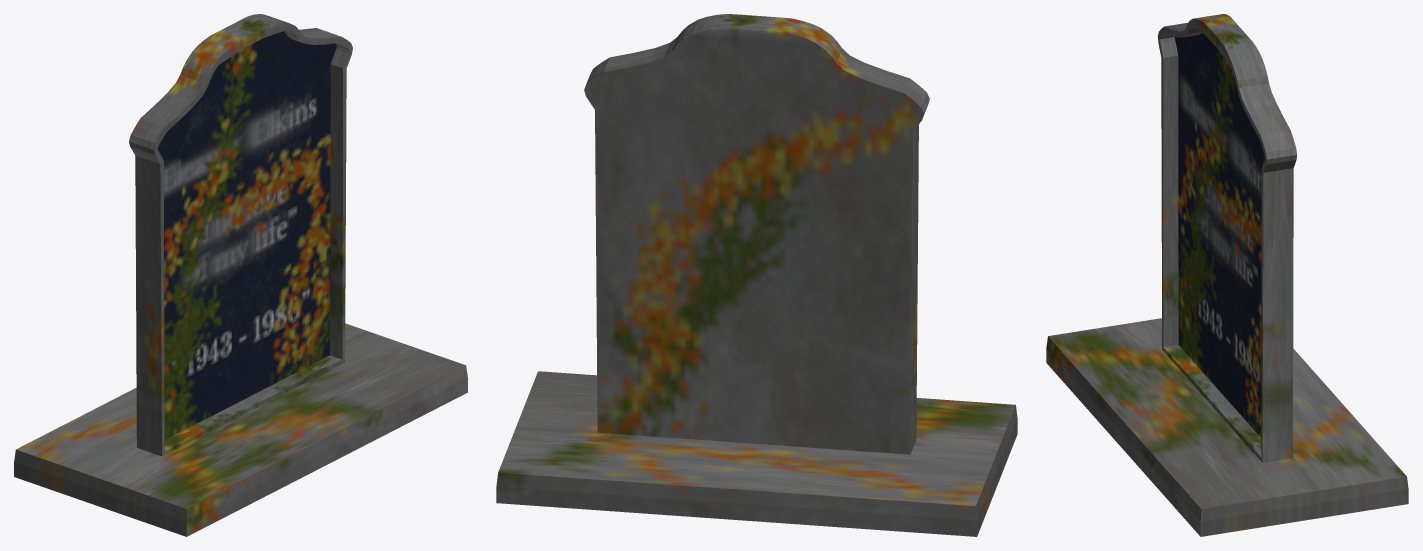
File: Tomb.obj
The picture shows the model from 3 angles, left to right: view 1: azimuth 30°, elevation 25°; view 2: azimuth 150°, elevation 25°; view 3: azimuth 270°, elevation 25°; orthographic projection. The views are drawn at different scales.
Visible parts, largest first — view 1: Cube_Cube.004; view 2: Cube_Cube.004; view 3: Cube_Cube.004.
Part boxes in pixels (x1,y1,x2,y2): Cube_Cube.004: [14, 14, 467, 536]; Cube_Cube.004: [496, 14, 1017, 536]; Cube_Cube.004: [1046, 14, 1408, 536].
Bounding box in the file's own units: 1.57 × 1.42 × 1.16.
Materials: 1 (1 with a texture image).
